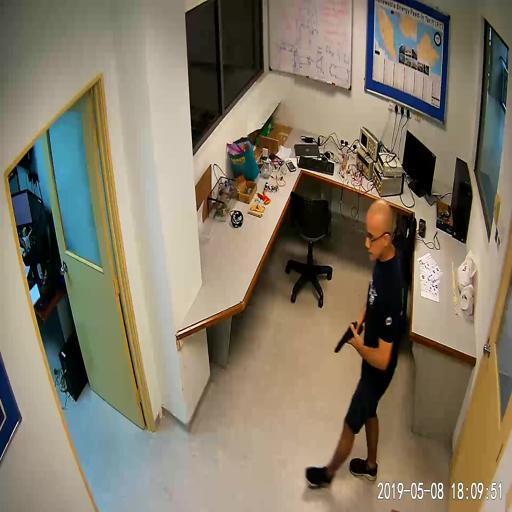pistol: (332, 320, 364, 357)
